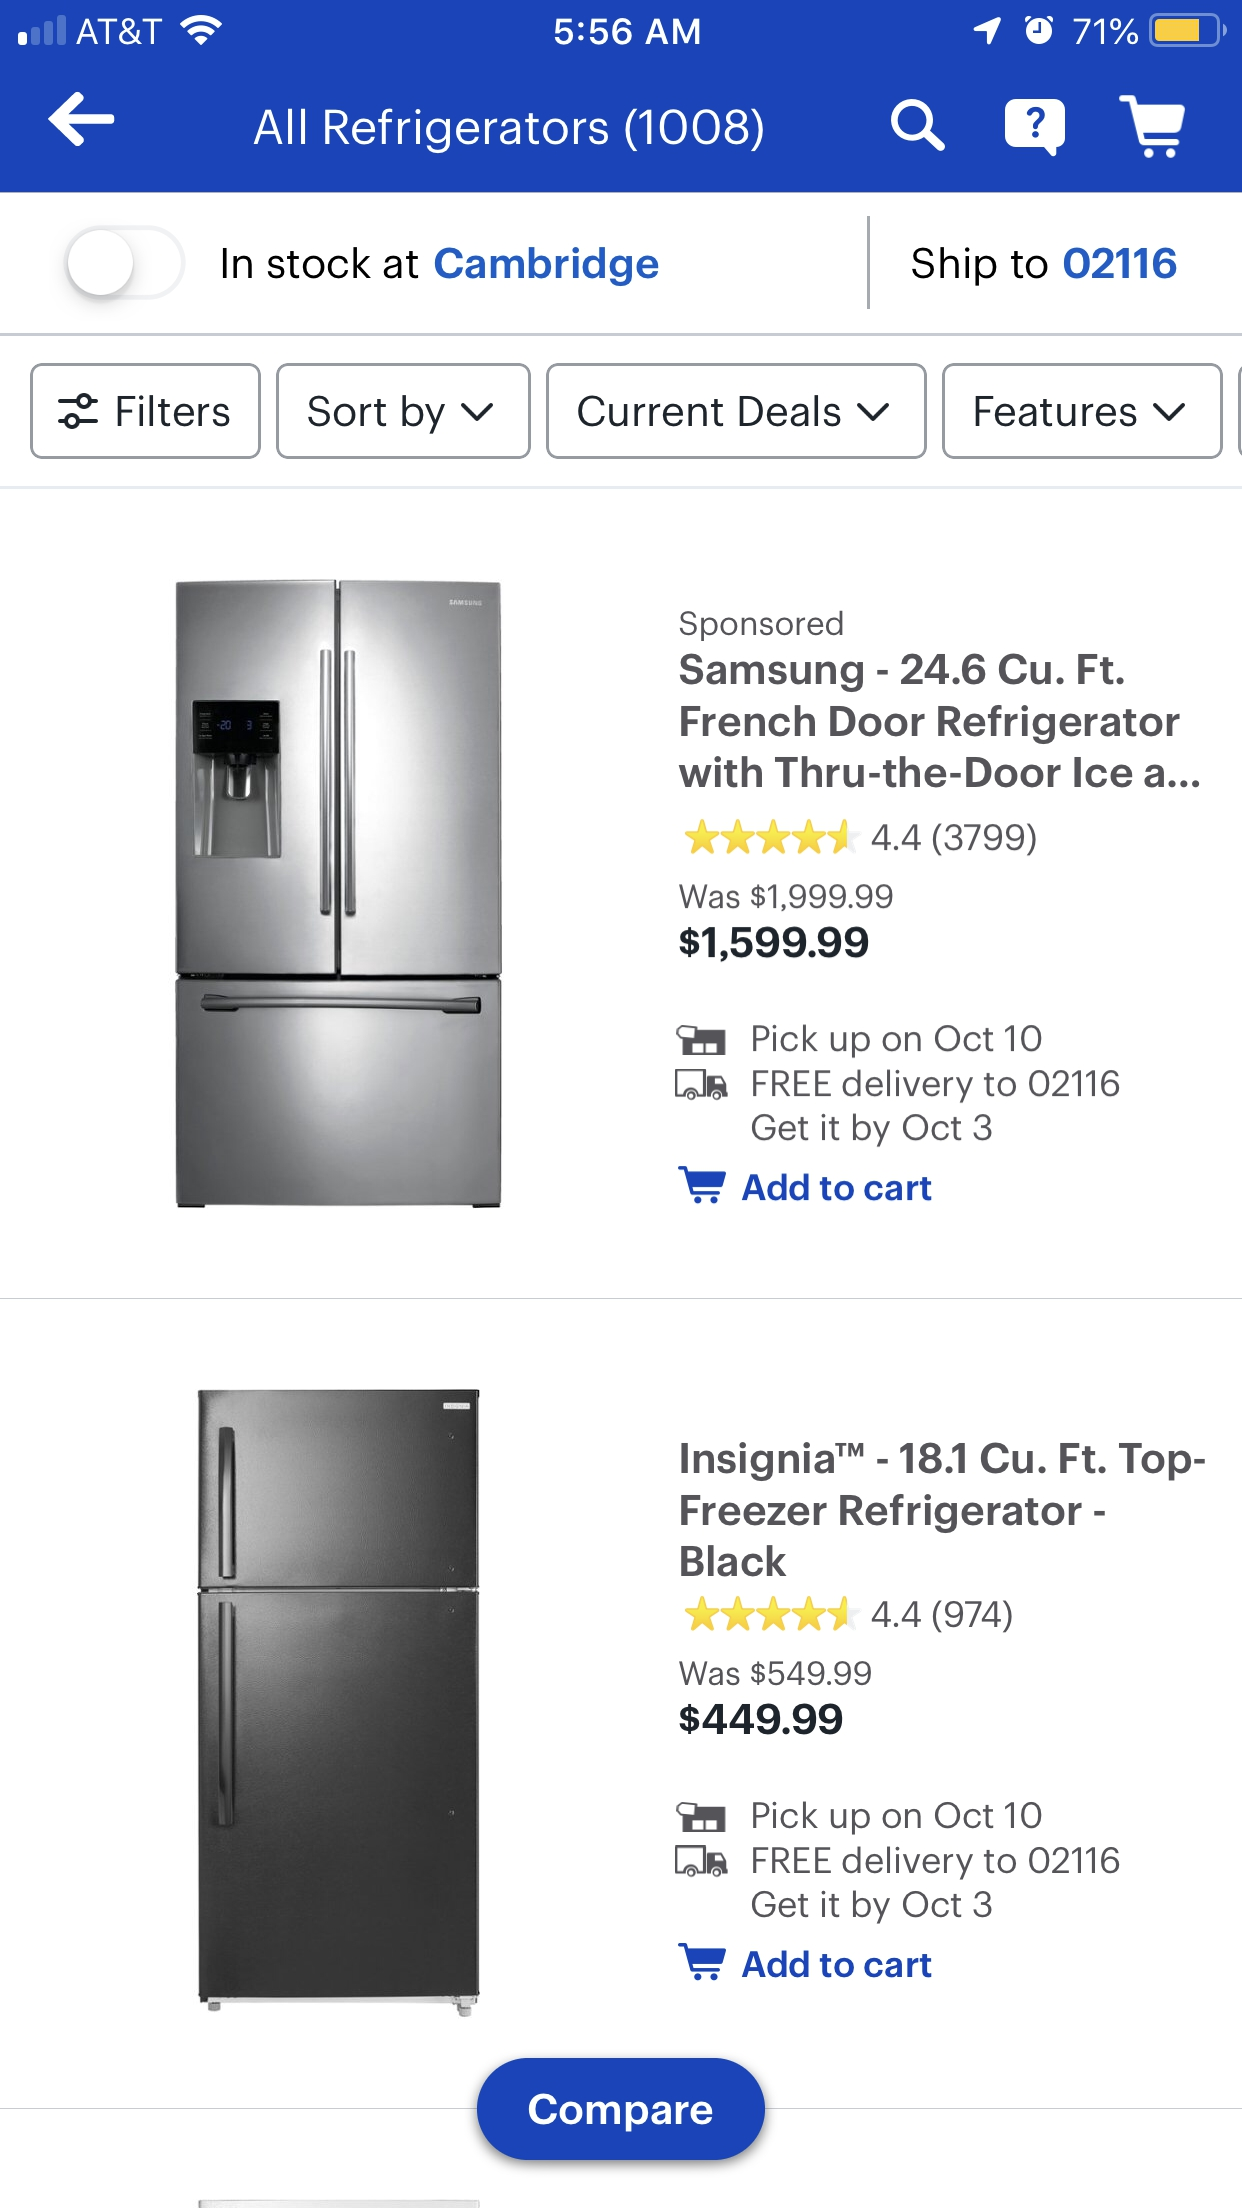Icon: (685, 817, 863, 855), (685, 1595, 863, 1632), (1118, 96, 1186, 161), (49, 93, 115, 149), (1004, 99, 1066, 158), (890, 99, 946, 153), (676, 1165, 726, 1206), (676, 1943, 726, 1981), (459, 402, 494, 422), (855, 402, 890, 422), (1153, 403, 1186, 423)
Image: (174, 578, 502, 1209), (197, 1388, 481, 2015), (675, 1844, 729, 1877), (673, 1068, 728, 1099), (676, 1802, 726, 1833), (675, 1024, 725, 1055)
Switch: (64, 224, 188, 300)
Text: (681, 1442, 1206, 1579), (676, 654, 1200, 790), (752, 1800, 1121, 1924), (751, 1024, 1118, 1146), (253, 108, 764, 155), (221, 246, 660, 288), (911, 247, 1177, 288), (679, 925, 867, 961), (679, 883, 892, 910), (742, 1174, 933, 1203), (742, 1949, 933, 1977), (679, 1701, 843, 1735), (679, 611, 845, 643), (870, 822, 1034, 854), (870, 1598, 1013, 1633), (679, 1661, 872, 1686)
TextButton: (546, 362, 928, 459), (478, 2056, 766, 2161), (942, 362, 1224, 459), (276, 362, 532, 461), (30, 362, 262, 459)
UpperTaskBar: (2, 2, 1242, 49)
